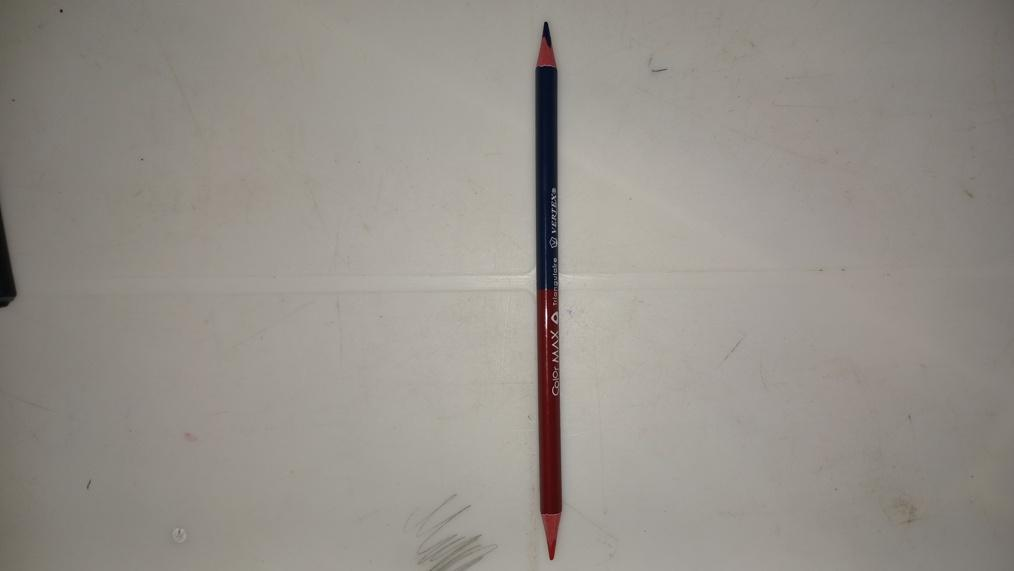Pencil: (536, 21, 562, 565)
